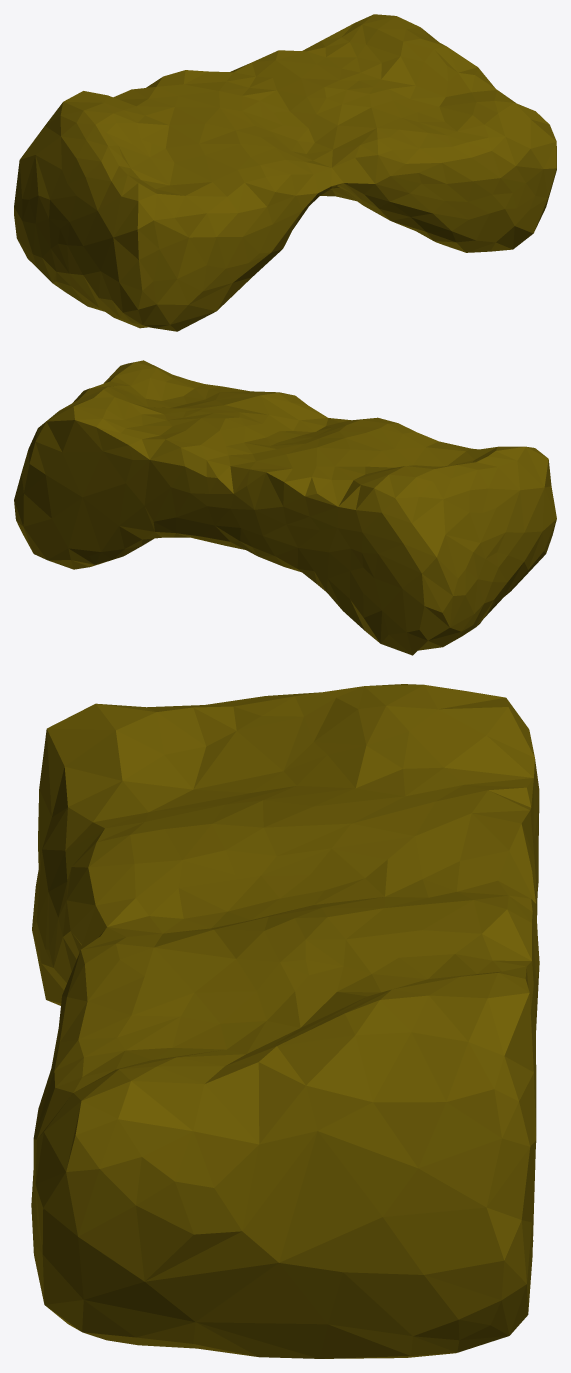
The model's file is 79-23c-area 23c of cortex-('0.4980', '0.4196', '0.0000').obj.
The picture shows the model from 3 angles, top to bottom: view 1: azimuth 30°, elevation 25°; view 2: azimuth 150°, elevation 25°; view 3: azimuth 270°, elevation 25°; orthographic projection. The views are drawn at different scales.
Bounding box in the file's own units: 85.84 × 32.07 × 42.62.
